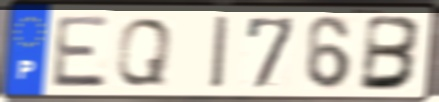6: (303, 13, 355, 92)
7: (242, 15, 297, 90)
B: (357, 13, 425, 93)
E: (49, 14, 112, 90)
I: (209, 13, 231, 92)
Q: (113, 15, 175, 89)
